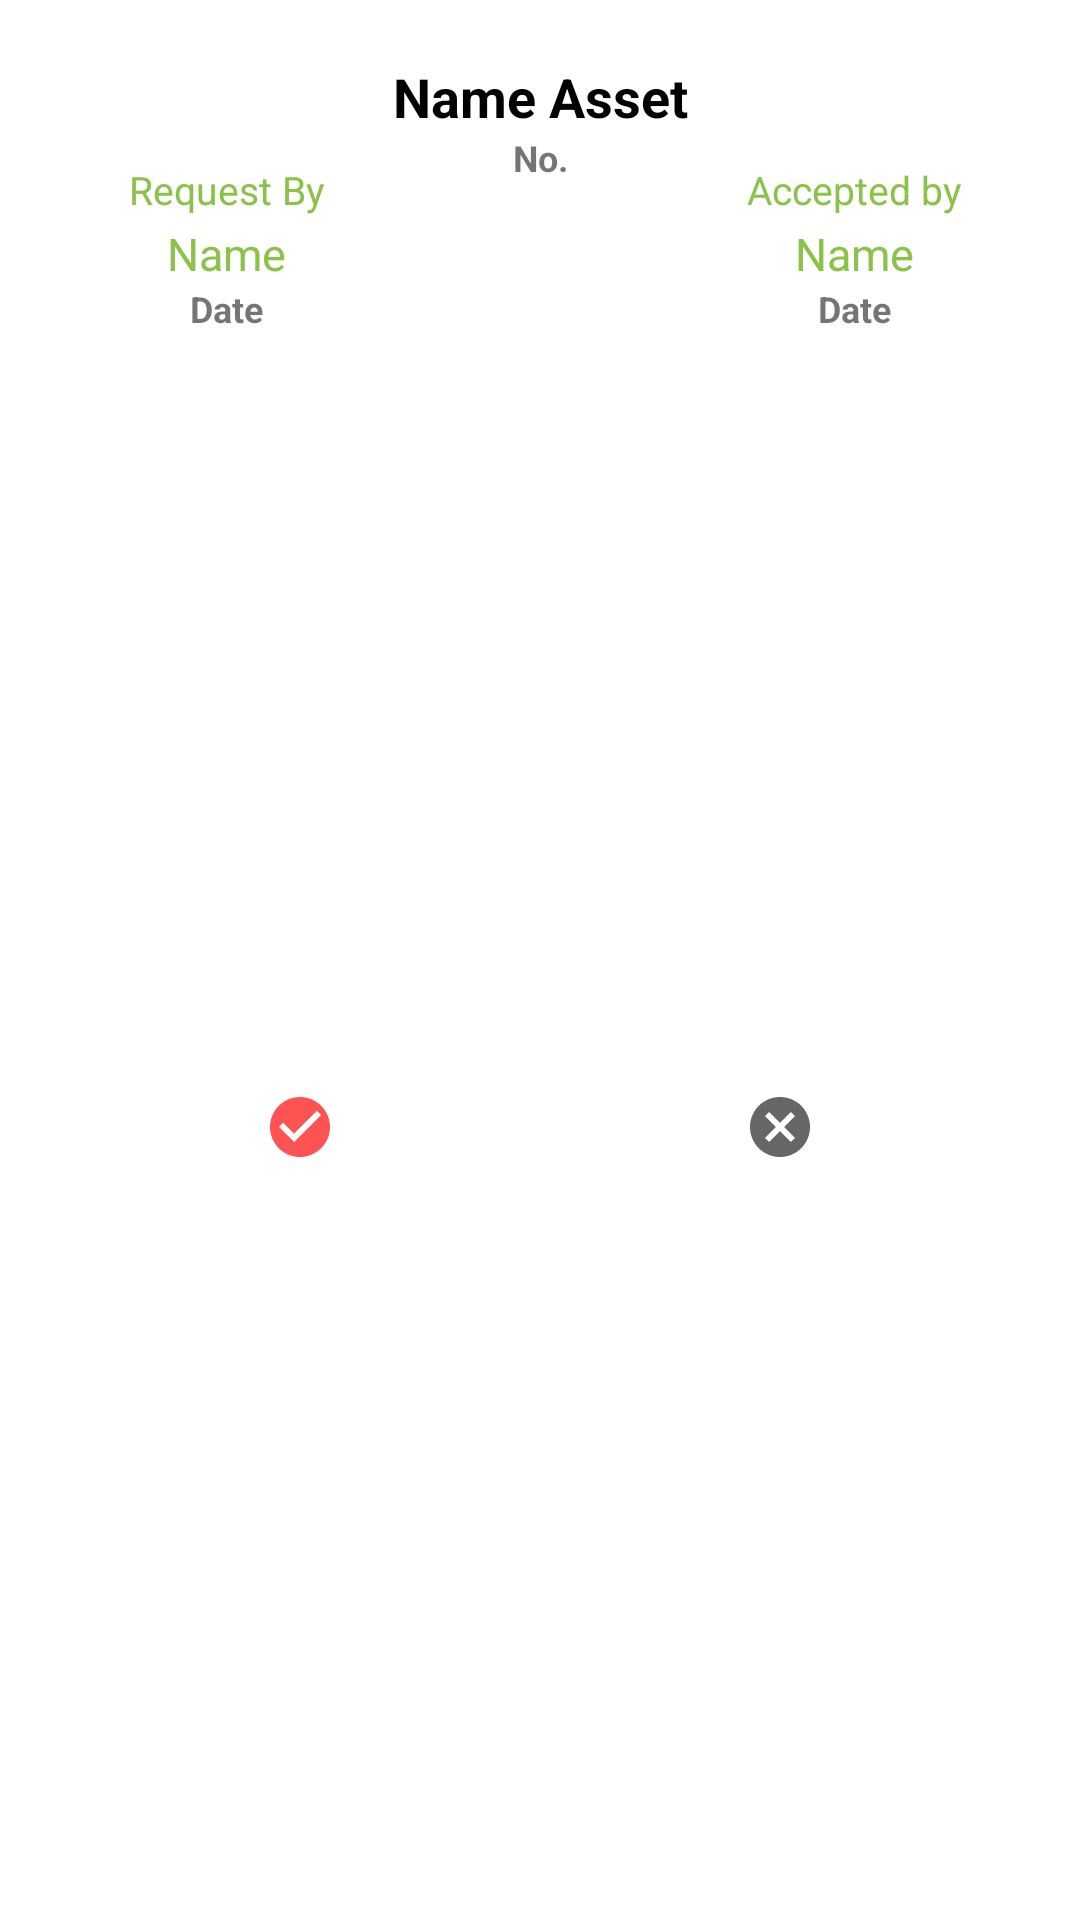

Screen size 1080px x 1920px. Icon name, then its center in pixels as (x=x, y=y):
cancel: (x=780, y=1127)
check: (x=300, y=1127)
